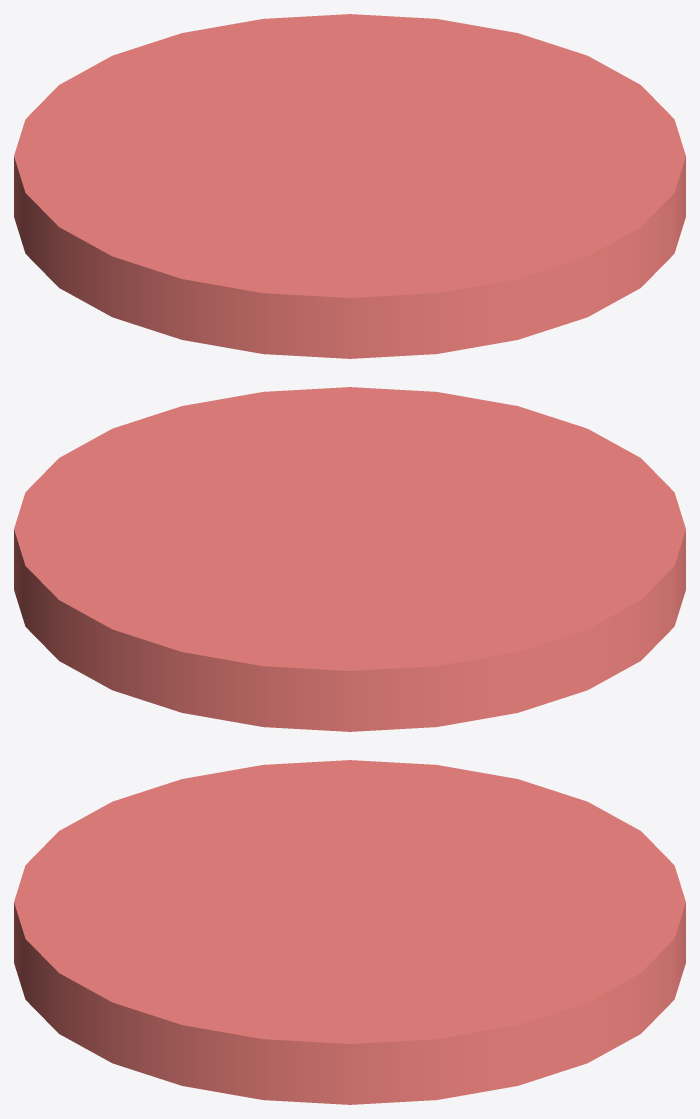
Rendered from button_round_flat.glb.
The picture shows the model from 3 angles, top to bottom: view 1: azimuth 30°, elevation 25°; view 2: azimuth 150°, elevation 25°; view 3: azimuth 270°, elevation 25°; orthographic projection.
Bounding box in the file's own units: 0.75 × 0.075 × 0.75.
